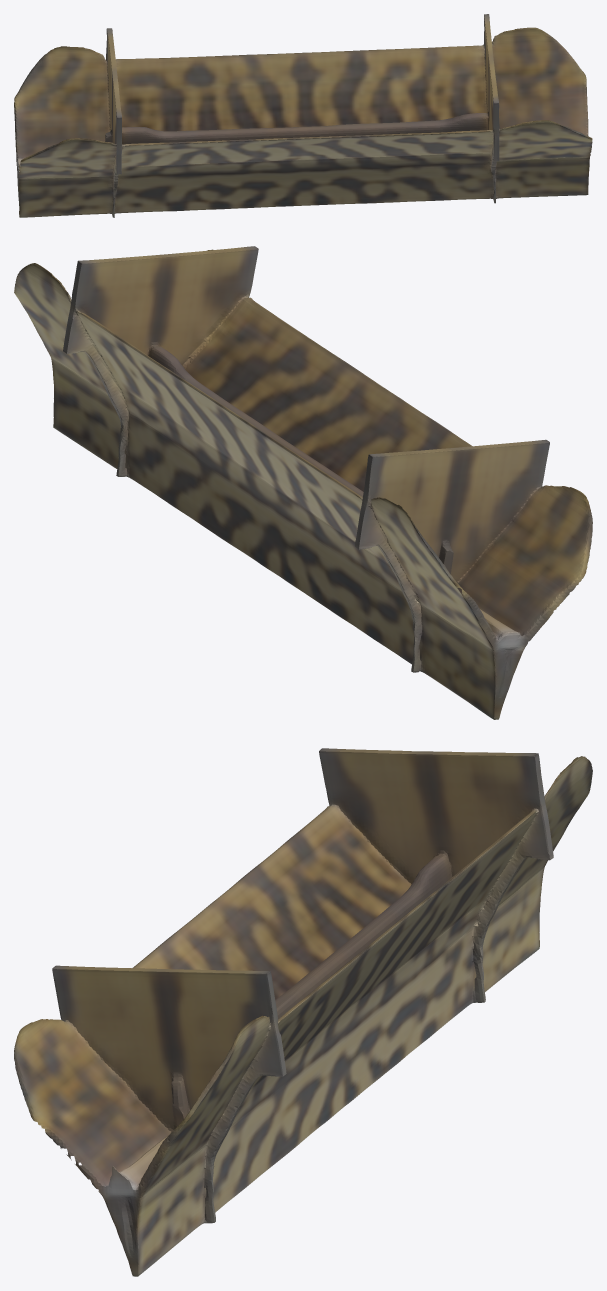
Rendered from guard-multi.glb.
The picture shows the model from 3 angles, top to bottom: view 1: azimuth 30°, elevation 25°; view 2: azimuth 150°, elevation 25°; view 3: azimuth 270°, elevation 25°; orthographic projection. The views are drawn at different scales.
Visible parts, largest first — view 1: geometry_0; view 2: geometry_0; view 3: geometry_0.
Part boxes in pixels (x1=…): geometry_0: x1=14, y1=14, x2=592, y2=217; geometry_0: x1=14, y1=246, x2=592, y2=719; geometry_0: x1=14, y1=748, x2=592, y2=1276.
Bounding box in the file's own units: 3.32 × 1.12 × 2.17.
